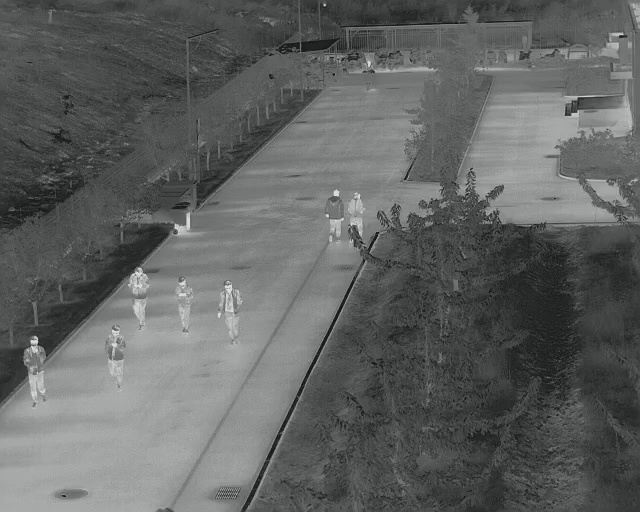NonMotorVehicle: (362, 59, 376, 92)
person: (24, 337, 48, 405), (127, 267, 150, 330), (218, 279, 239, 343), (106, 325, 125, 389), (175, 276, 192, 334), (326, 189, 342, 245), (346, 191, 366, 233)
